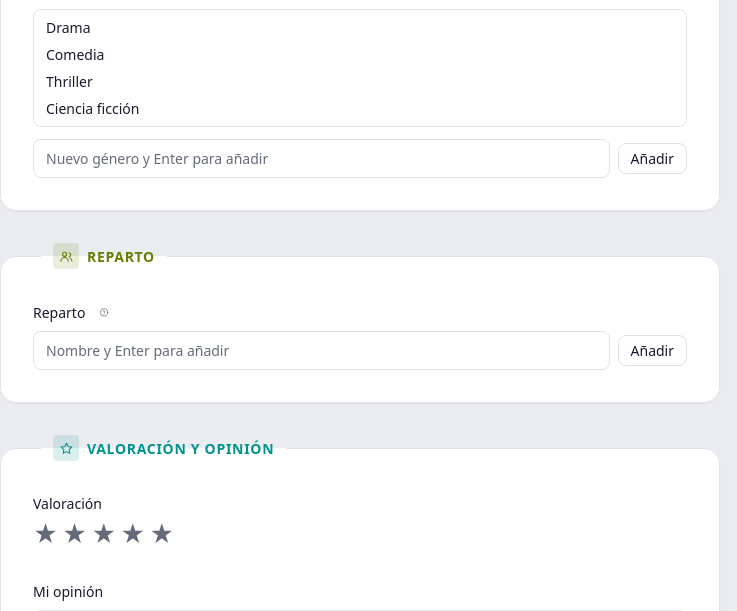
it: SeriesForm › añade miembro del reparto con el botón Añadir
(page scrolled)
In the field named "añadir miembro del reparto": (321, 350) left=33, top=331, right=610, bottom=370, type "Anna Gunn"
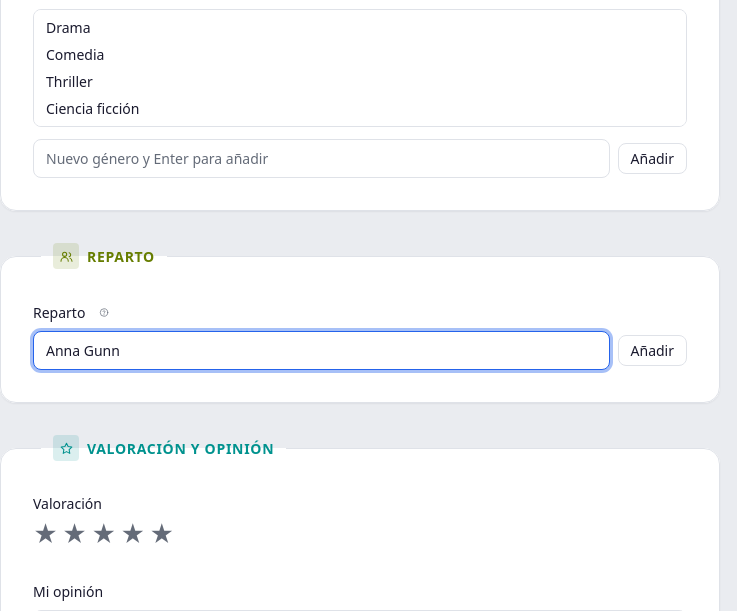
Click the button with aria-label "añadir reparto": click(652, 350) left=618, top=335, right=687, bottom=366
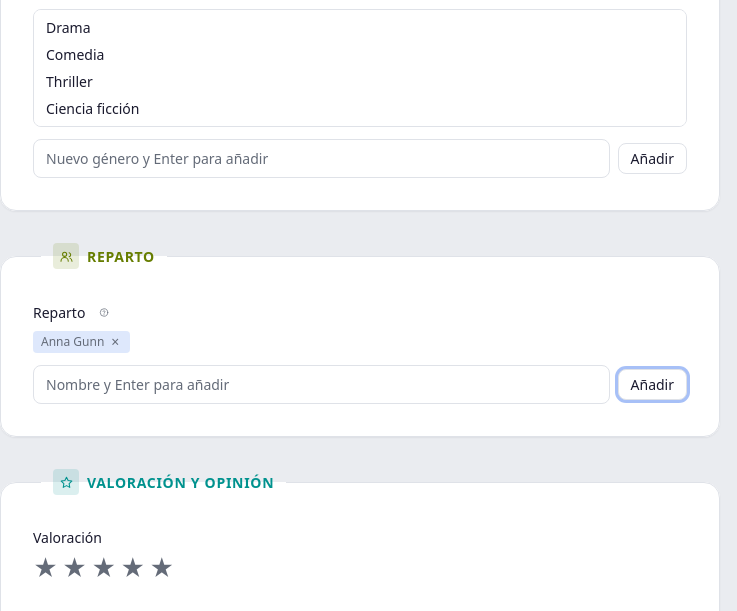
Result: the text "Anna Gunn" is shown at left=41, top=333, right=104, bottom=350
